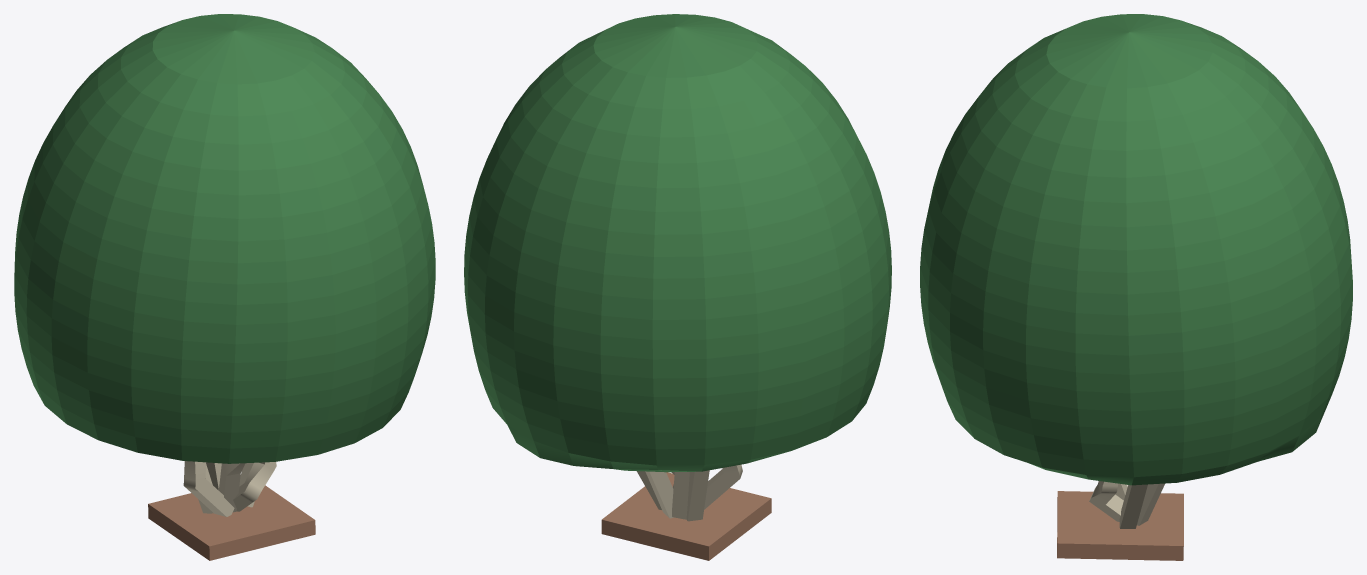
File: low_poly_bush.glb
3 views of the same model, side by side, from view 1: azimuth 30°, elevation 25°; view 2: azimuth 150°, elevation 25°; view 3: azimuth 270°, elevation 25° (orthographic). The views are drawn at different scales.
Visible parts, largest first — view 1: Object_2, Object_3, Object_4; view 2: Object_2, Object_3, Object_4; view 3: Object_2, Object_3, Object_4.
Boxes of the visible parts, x1,y1,x2,y2 form: Object_2: [14, 14, 435, 463]; Object_3: [148, 485, 315, 560]; Object_4: [183, 461, 276, 516]; Object_2: [464, 14, 891, 472]; Object_3: [601, 472, 771, 560]; Object_4: [636, 464, 742, 521]; Object_2: [920, 14, 1352, 485]; Object_3: [1057, 491, 1183, 560]; Object_4: [1089, 481, 1164, 528].
Size of the model in its own units: 18.36 by 23.67 by 18.35.
